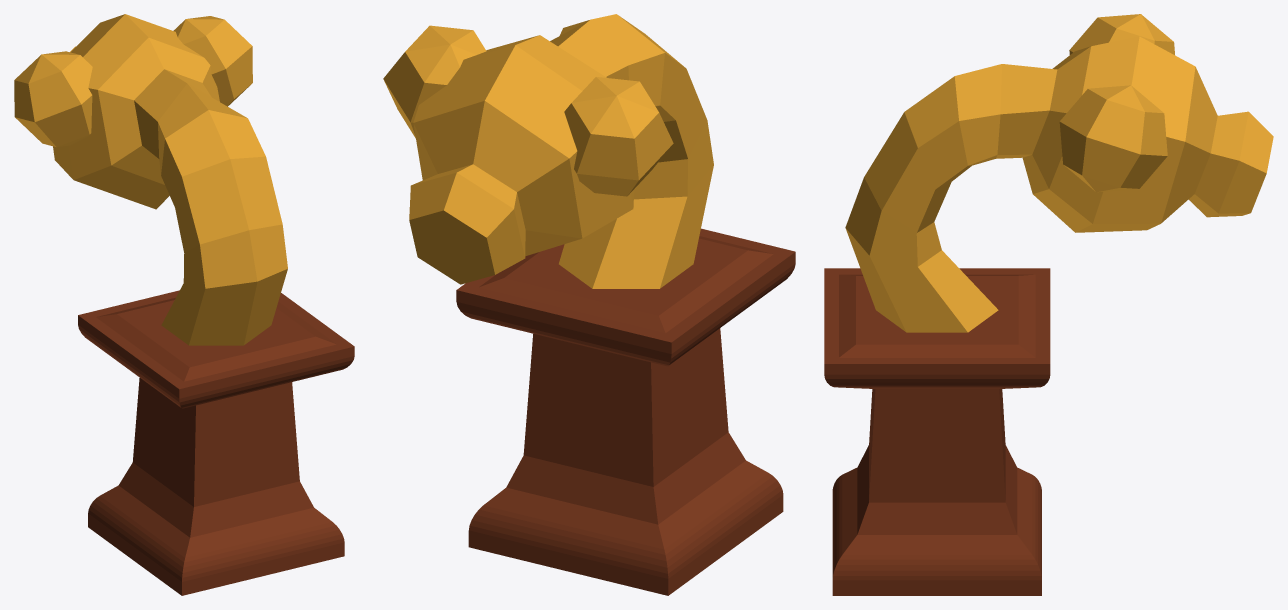
File: Raplhstatue.fbx
The picture shows the model from 3 angles, left to right: view 1: azimuth 30°, elevation 25°; view 2: azimuth 150°, elevation 25°; view 3: azimuth 270°, elevation 25°; orthographic projection. The views are drawn at different scales.
Visible parts, largest first — view 1: Cube; view 2: Cube; view 3: Cube.
Boxes of the visible parts, x1,y1,x2,y2 form: Cube: (14, 14, 354, 595); Cube: (383, 14, 795, 595); Cube: (824, 14, 1273, 595).
Bounding box in the file's own units: 453 × 726 × 919.
